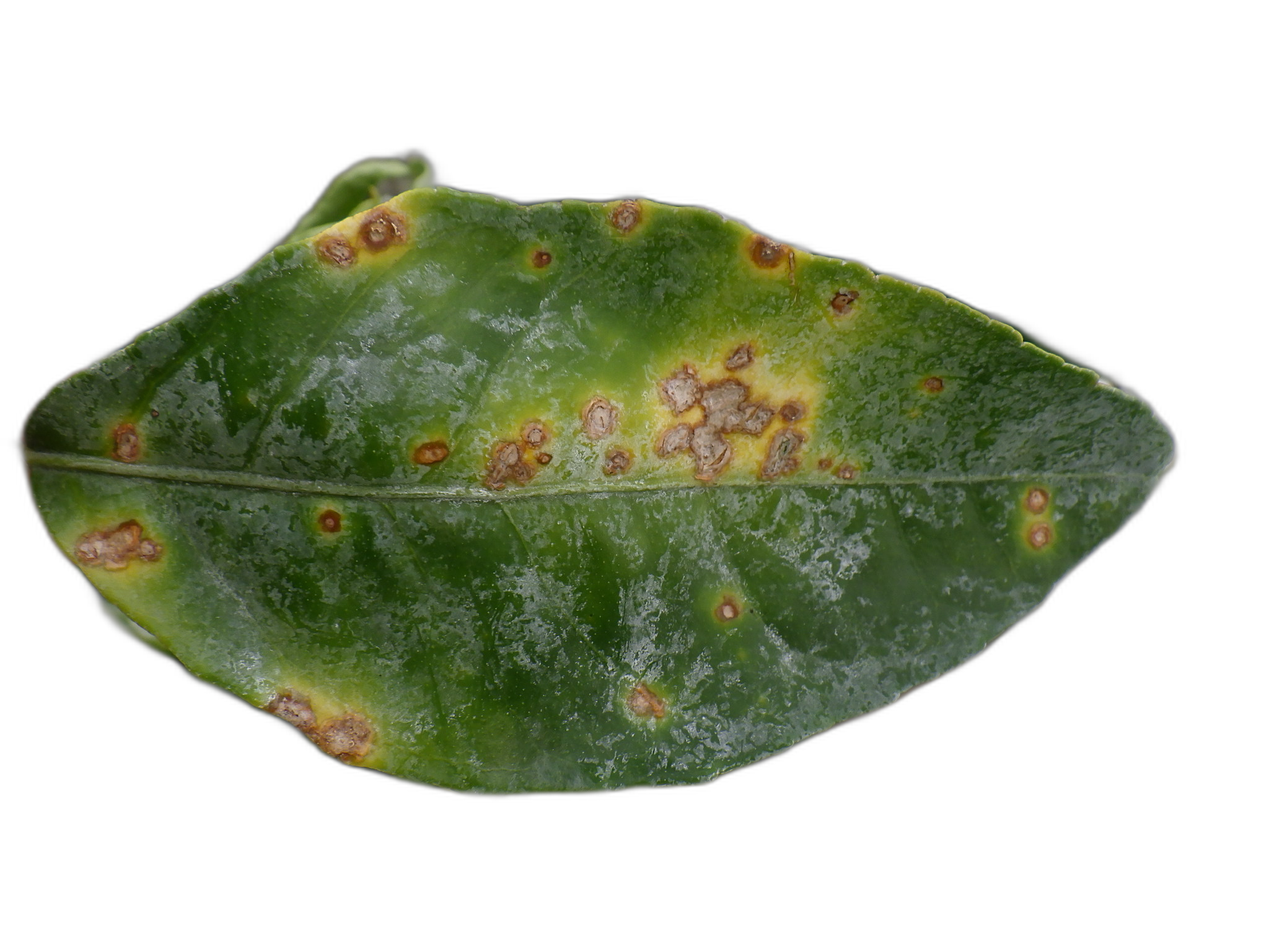Canker: (656, 364, 775, 479), (483, 418, 553, 490), (72, 520, 163, 574), (261, 693, 321, 741), (318, 714, 373, 761), (760, 430, 809, 482), (358, 208, 407, 253), (579, 395, 619, 441), (746, 236, 795, 272), (625, 682, 667, 718), (315, 235, 356, 269), (607, 200, 644, 236), (711, 591, 742, 624), (602, 445, 635, 475), (411, 439, 449, 465), (113, 423, 139, 461), (727, 340, 755, 374), (1024, 521, 1054, 551), (1022, 487, 1052, 516), (315, 507, 342, 535), (829, 289, 858, 315), (779, 400, 806, 425), (529, 248, 553, 269), (834, 463, 860, 482), (921, 377, 945, 394), (817, 456, 833, 473)
